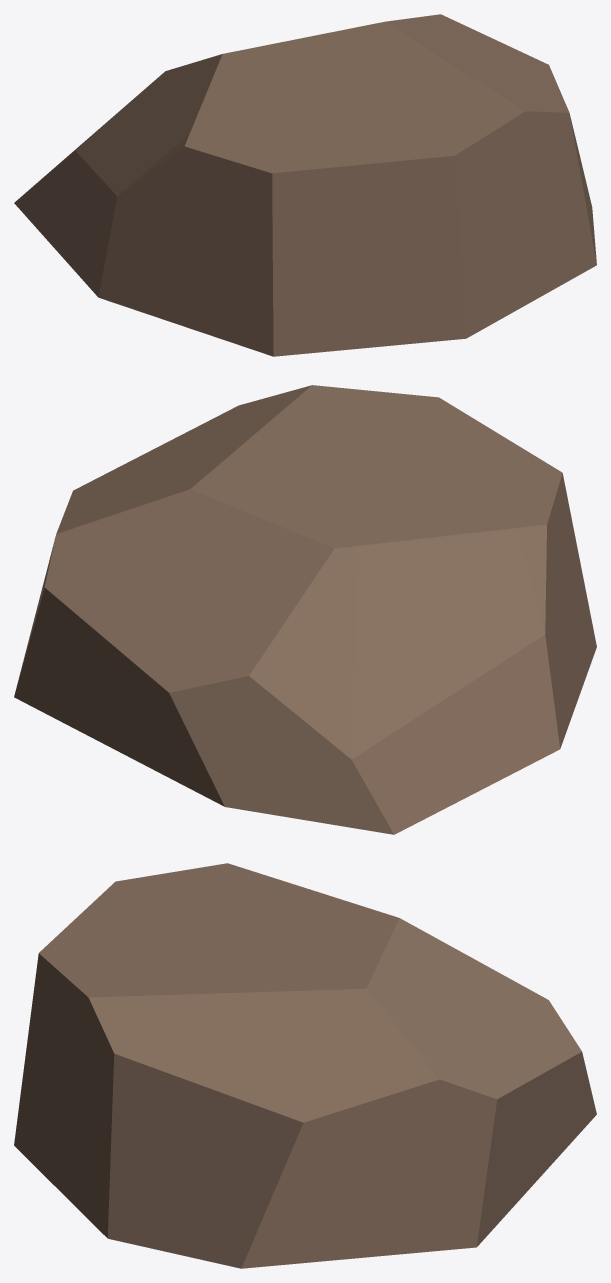
The model's file is stone2.fbx.
3 views of the same model, one above another, from view 1: azimuth 30°, elevation 25°; view 2: azimuth 150°, elevation 25°; view 3: azimuth 270°, elevation 25° (orthographic). The views are drawn at different scales.
Visible parts, largest first — view 1: stone2; view 2: stone2; view 3: stone2.
Part boxes in pixels (<box>): stone2: <box>14,14,596,356</box>; stone2: <box>14,385,596,834</box>; stone2: <box>14,863,596,1268</box>.
Bounding box in the file's own units: 510 × 190 × 505.
